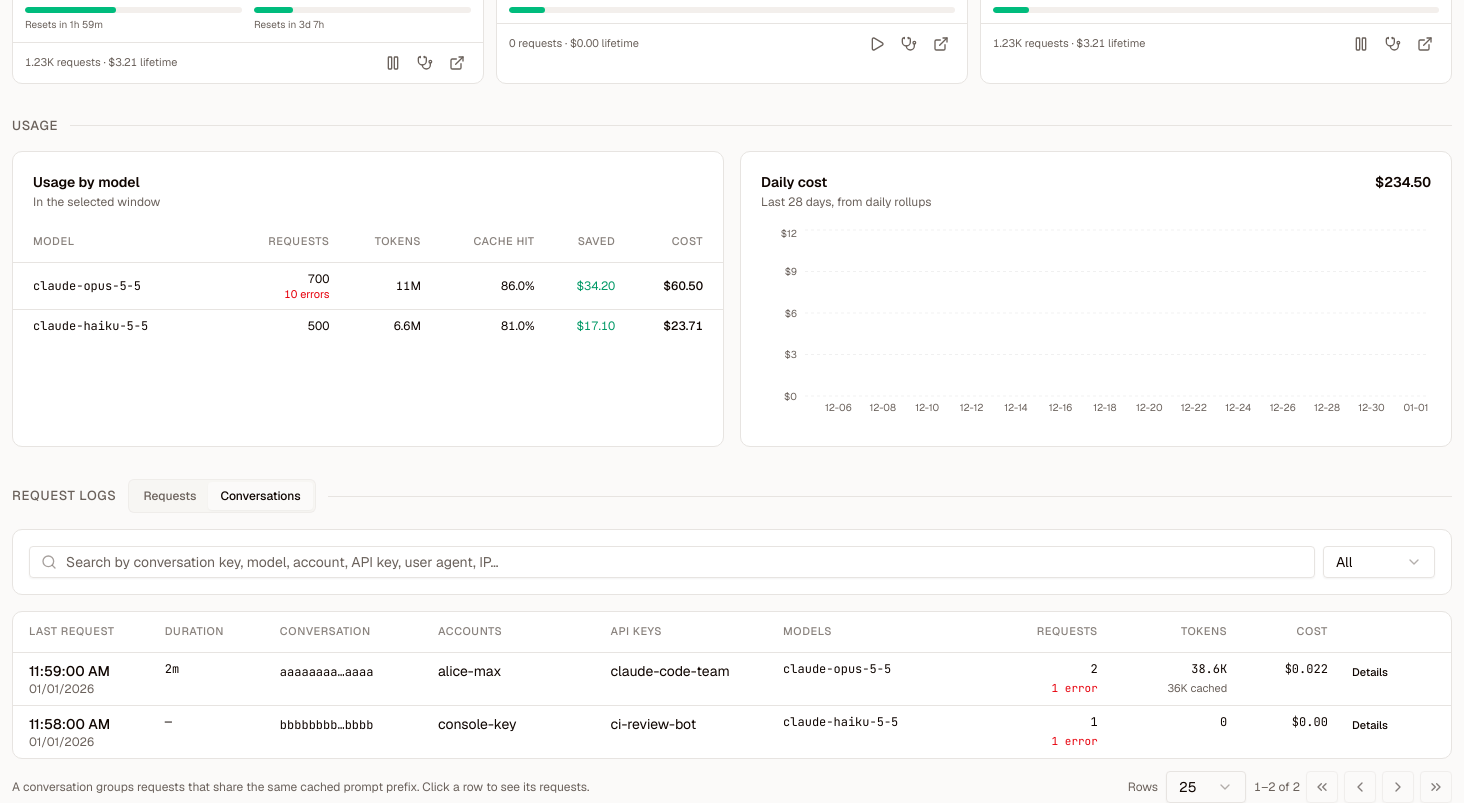
Test: Dashboard conversations view › filters the request log by a conversation when its row is clicked
(page scrolled)
Click the row with test id "conversation-row-aaaaaaaa…aaaa" at (732, 678), box top-left (13, 652), bottom-right (1451, 705)
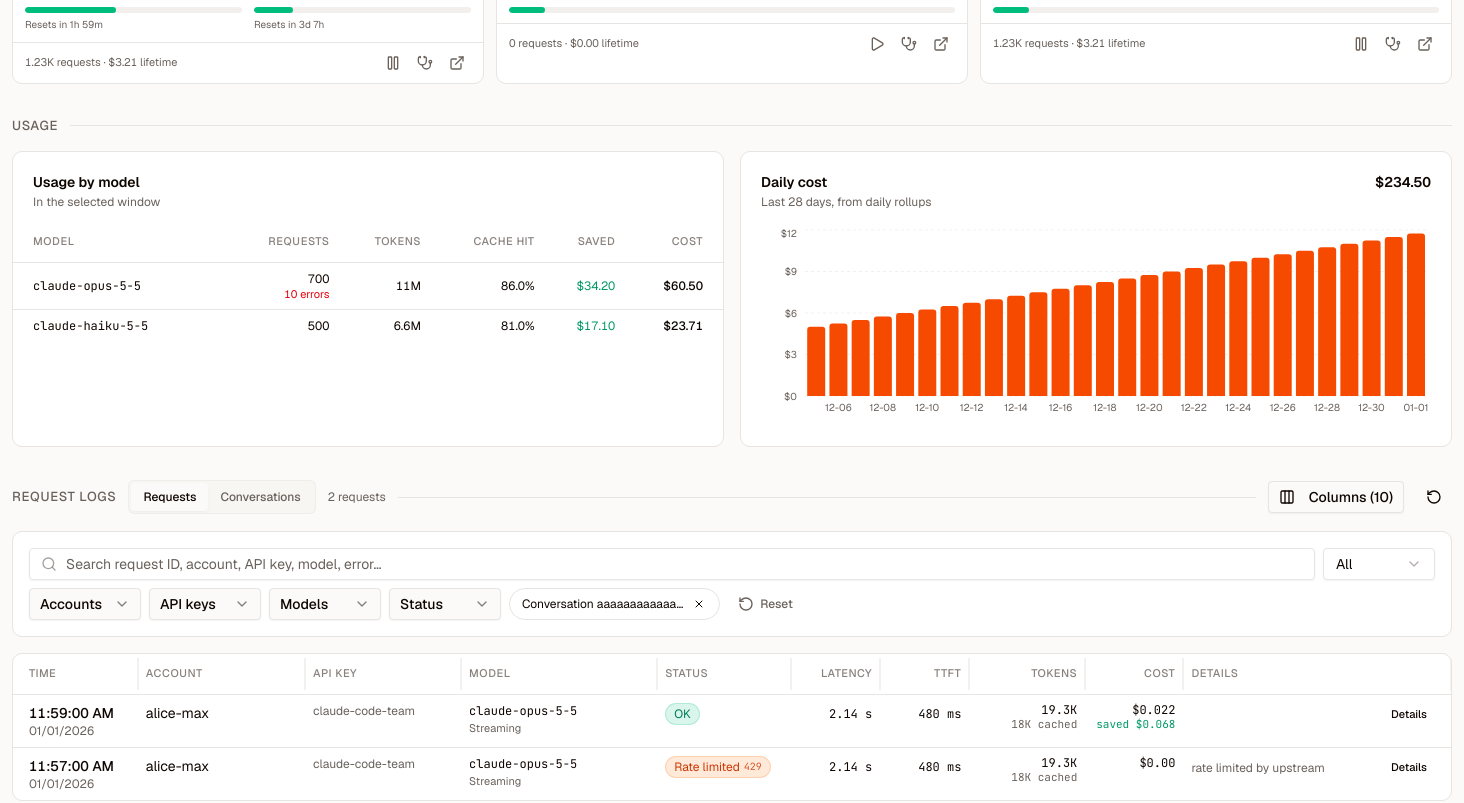
Expected: the row with test id "request-row-req_0001" is shown, top-left (13, 694), bottom-right (1451, 747)
Expected: the row with test id "request-row-req_0003" is shown, top-left (13, 747), bottom-right (1451, 800)
